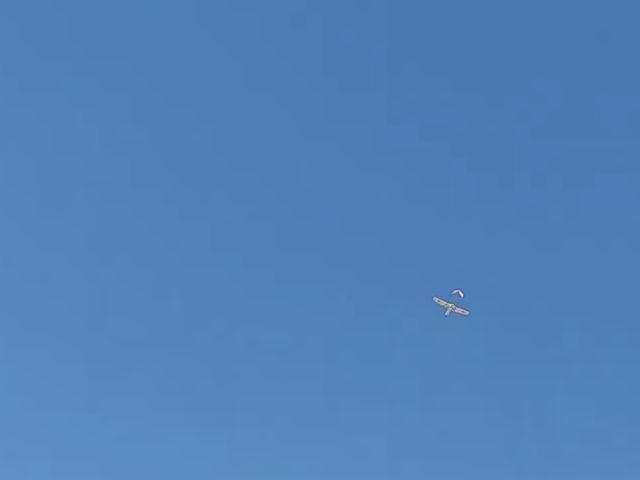Airplane: (431, 277, 476, 332)
